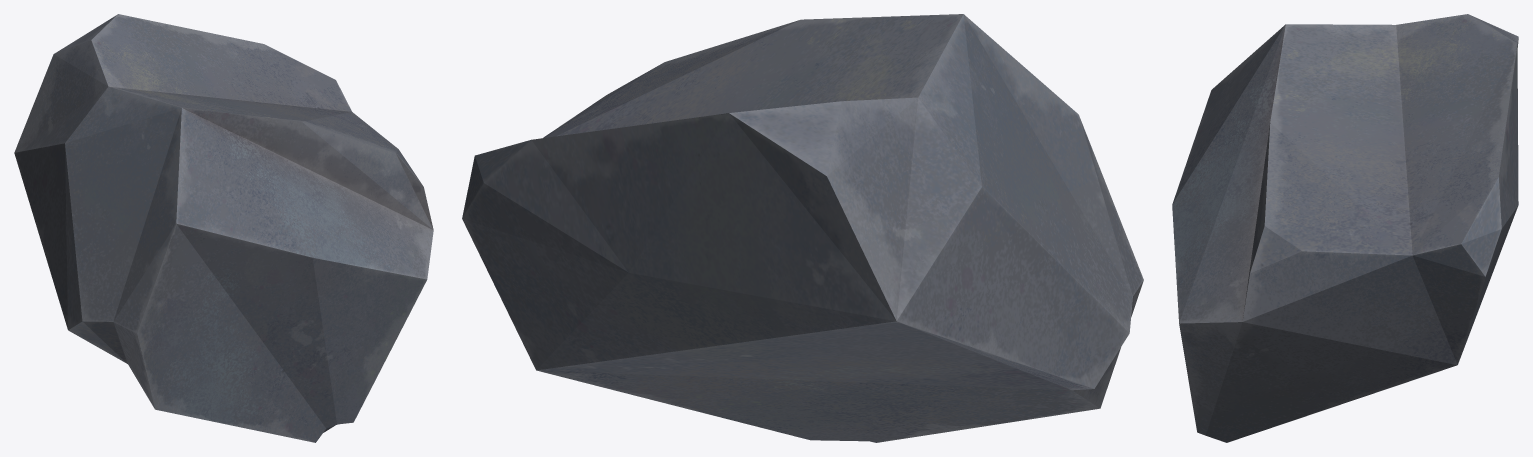
The model's file is Rock1.fbx.
3 renders of one model, left to right at view 1: azimuth 30°, elevation 25°; view 2: azimuth 150°, elevation 25°; view 3: azimuth 270°, elevation 25°, orthographic. The views are drawn at different scales.
Visible parts, largest first — view 1: stylized_rock_67; view 2: stylized_rock_67; view 3: stylized_rock_67.
Boxes of the visible parts, x1=… form: stylized_rock_67: x1=14, y1=14, x2=433, y2=442; stylized_rock_67: x1=462, y1=14, x2=1143, y2=442; stylized_rock_67: x1=1172, y1=14, x2=1518, y2=442.
Size of the model in its own units: 2929 by 2779 by 2413.
1 material, 1 textured.
